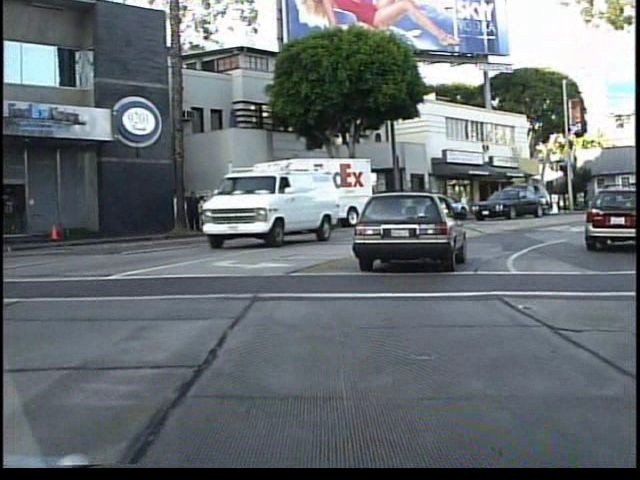person: (186, 190, 204, 234)
